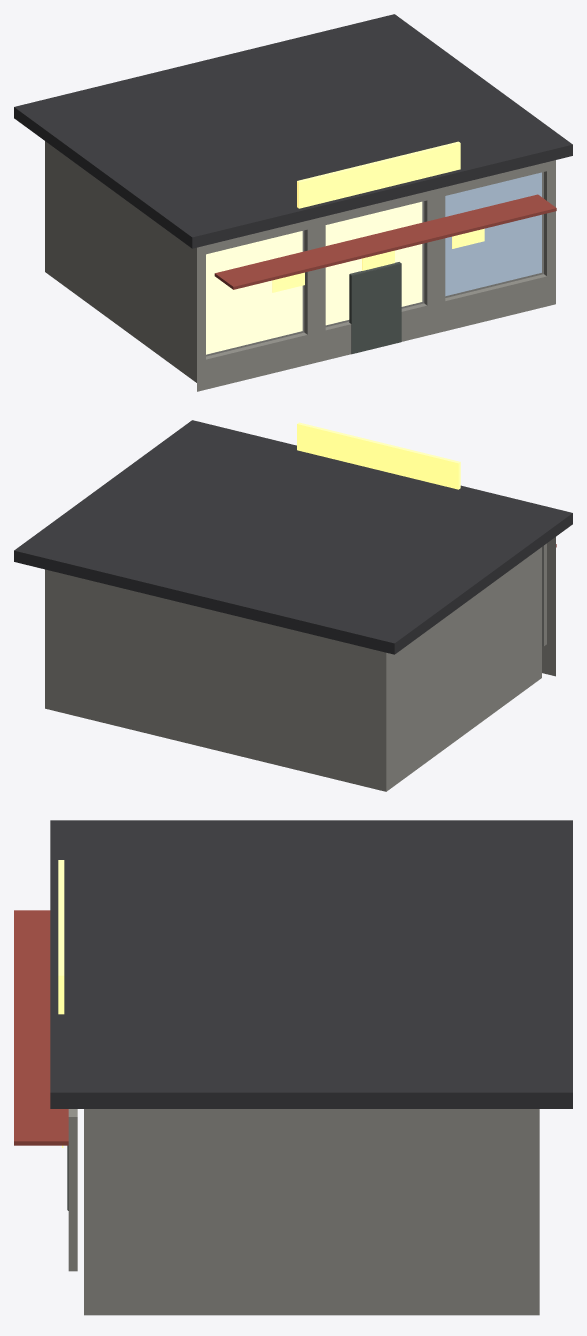
File: cafe_vstrecha.glb
The picture shows the model from 3 angles, top to bottom: view 1: azimuth 30°, elevation 25°; view 2: azimuth 150°, elevation 25°; view 3: azimuth 270°, elevation 25°; orthographic projection. The views are drawn at different scales.
Parts seen in each view (by area): view 1: roof, shopfront, mass, awning, sign_board, door; view 2: roof, mass, sign_board, shopfront; view 3: roof, mass, awning, shopfront, sign_board.
Boxes of the visible parts, box(x1,y1,x2,y2) form: roof: box(14, 14, 572, 248); shopfront: box(197, 160, 555, 391); mass: box(45, 141, 196, 382); awning: box(214, 194, 556, 289); sign_board: box(297, 141, 460, 208); door: box(349, 262, 401, 353); roof: box(14, 420, 572, 654); mass: box(45, 547, 541, 791); sign_board: box(297, 422, 460, 489); shopfront: box(542, 537, 555, 676); roof: box(50, 820, 572, 1108); mass: box(84, 1109, 539, 1315); awning: box(14, 910, 68, 1145); shopfront: box(68, 1109, 77, 1271); sign_board: box(58, 860, 64, 1014).
Size of what is drawn, in the model's own units: 10.6 by 5 by 9.2.
